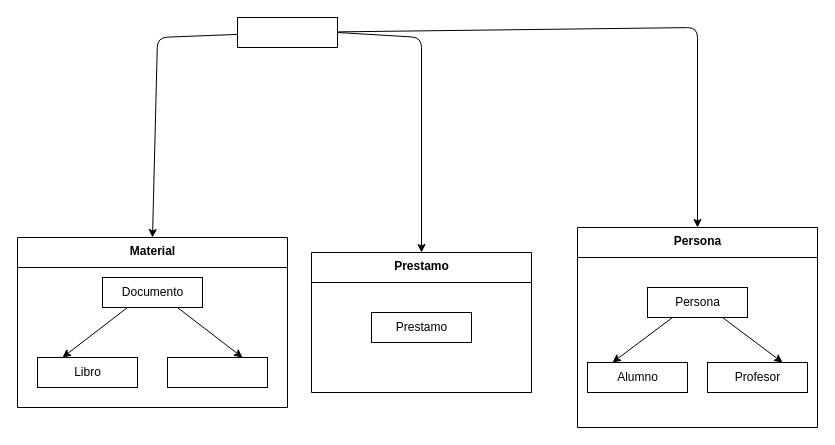
The diagram is 835 pixels wide and 445 high, and some of its shapes have lost their labels. Here are the shapes that lost their labels. From the top down, the centre of each, then its label:
point 287,32: Biblioteca
point 217,372: Registro
